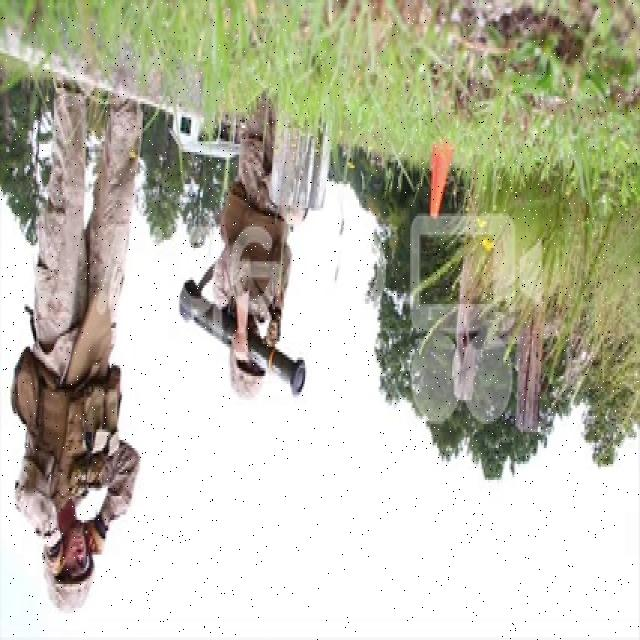bazooka: (177, 279, 312, 404)
